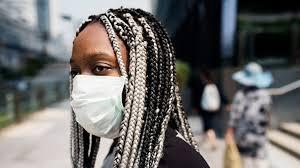Wearing Mask: (63, 4, 194, 163)
